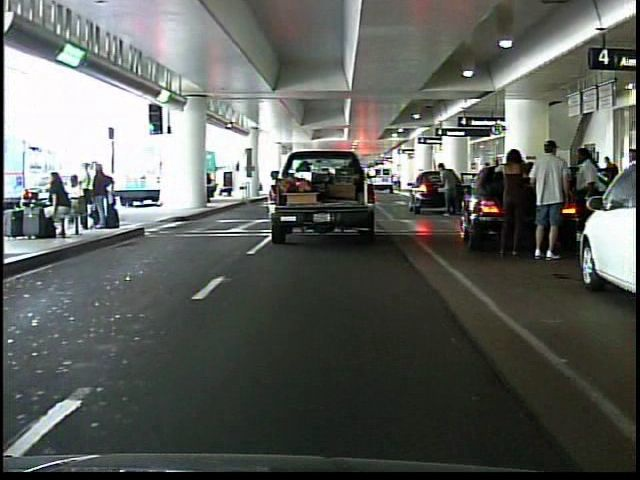person: (571, 141, 613, 272), (529, 137, 572, 262), (489, 138, 530, 266), (437, 159, 462, 225)
